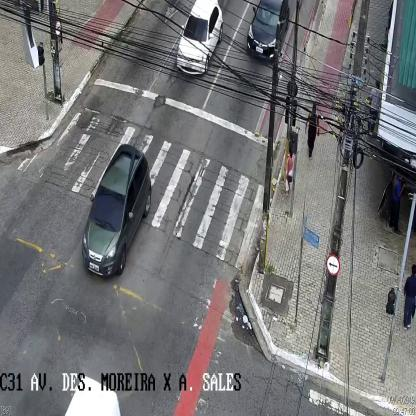car: (79, 145, 152, 280)
person: (403, 262, 416, 328), (305, 102, 320, 158), (391, 170, 404, 233), (366, 81, 380, 132), (285, 140, 291, 196)
